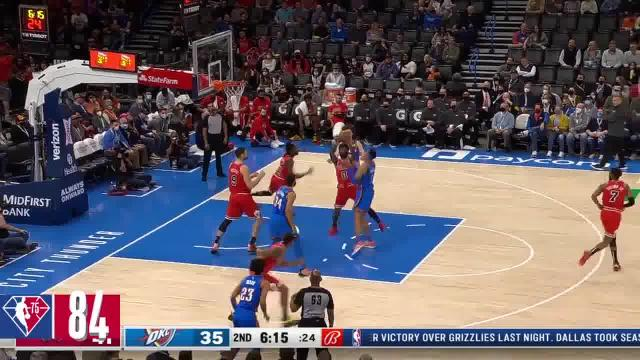ball-handler: (326, 128, 365, 238)
player: (208, 146, 264, 255), (591, 159, 632, 273), (224, 254, 268, 358), (254, 230, 300, 326), (269, 137, 306, 226), (350, 140, 378, 255), (272, 172, 306, 266)
